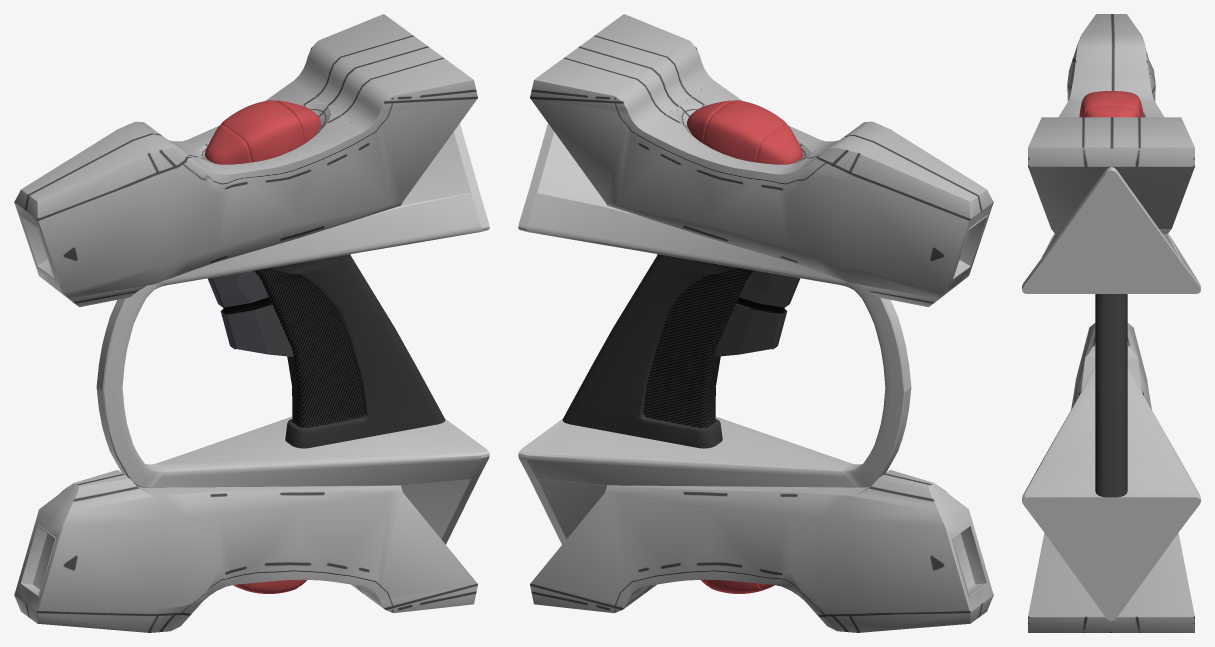
The picture shows the model from 3 angles, left to right: view 1: azimuth 30°, elevation 25°; view 2: azimuth 150°, elevation 25°; view 3: azimuth 270°, elevation 25°; orthographic projection. The views are drawn at different scales.
Parts seen in each view (by area): view 1: 球体.006, 球体.008, 平面.014, 平面.016, 球体.007, 平面.015, 球体.009; view 2: 球体.006, 球体.008, 平面.014, 平面.016, 球体.007, 平面.015, 球体.009; view 3: 平面.014, 球体.006, 球体.008, 平面.016, 球体.007.
Part boxes in pixels (bbox=[...]): 球体.006: bbox=[14, 14, 477, 306]; 球体.008: bbox=[14, 470, 477, 632]; 平面.014: bbox=[96, 123, 489, 544]; 平面.016: bbox=[253, 254, 445, 448]; 球体.007: bbox=[204, 100, 320, 164]; 平面.015: bbox=[207, 270, 293, 356]; 球体.009: bbox=[233, 579, 306, 593]; 球体.006: bbox=[530, 14, 993, 306]; 球体.008: bbox=[530, 470, 993, 632]; 平面.014: bbox=[518, 123, 911, 544]; 平面.016: bbox=[562, 254, 754, 448]; 球体.007: bbox=[687, 100, 803, 164]; 平面.015: bbox=[714, 270, 800, 356]; 球体.009: bbox=[701, 579, 774, 593]; 平面.014: bbox=[1022, 167, 1200, 620]; 球体.006: bbox=[1028, 14, 1194, 233]; 球体.008: bbox=[1028, 323, 1194, 632]; 平面.016: bbox=[1095, 294, 1127, 497]; 球体.007: bbox=[1079, 91, 1143, 117].
Bounding box in the file's own units: 182 × 219 × 73.16.
